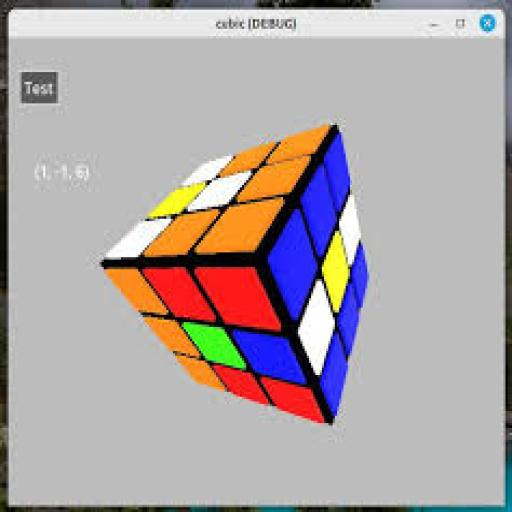cubic: (96, 120, 397, 472)
